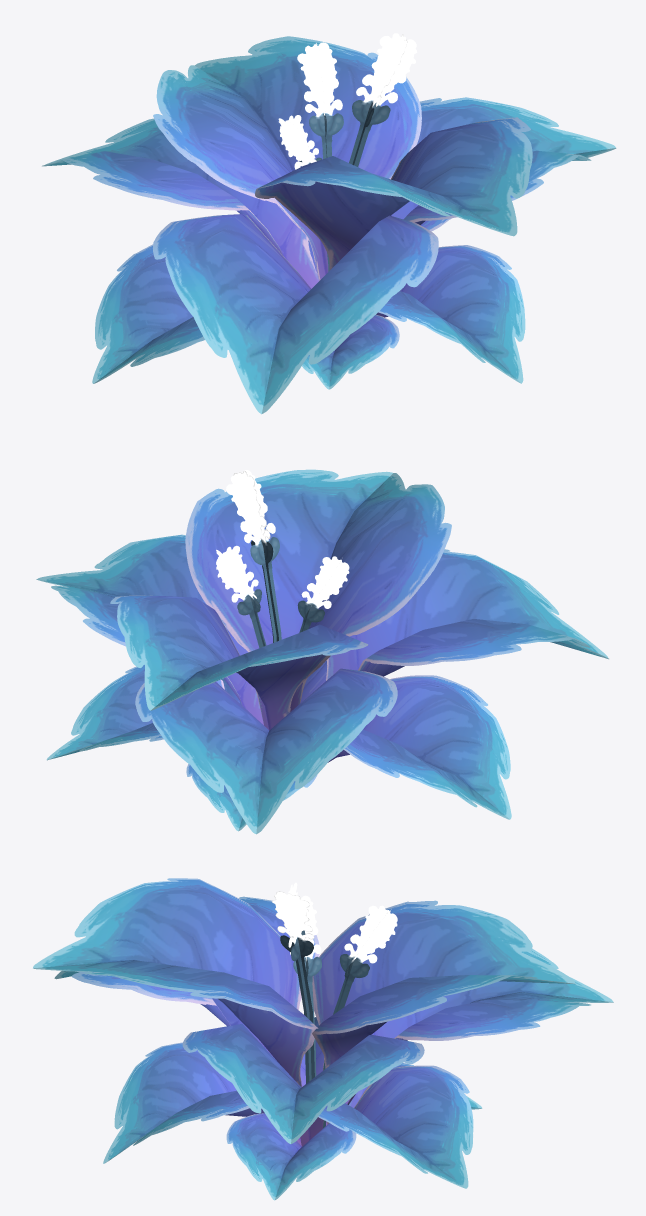
The model's file is SM_ENV_plant_ancient_04_01.fbx.
3 renders of one model, top to bottom at view 1: azimuth 30°, elevation 25°; view 2: azimuth 150°, elevation 25°; view 3: azimuth 270°, elevation 25°, orthographic. The views are drawn at different scales.
Parts seen in each view (by area): view 1: SM_ENV_plant_ancient_04_01_LOD0; view 2: SM_ENV_plant_ancient_04_01_LOD0; view 3: SM_ENV_plant_ancient_04_01_LOD0.
Boxes of the visible parts, x1,y1,x2,y2 form: SM_ENV_plant_ancient_04_01_LOD0: [42, 33, 616, 414]; SM_ENV_plant_ancient_04_01_LOD0: [36, 469, 608, 834]; SM_ENV_plant_ancient_04_01_LOD0: [33, 878, 613, 1200].
Bounding box in the file's own units: 154 × 93.66 × 163.
